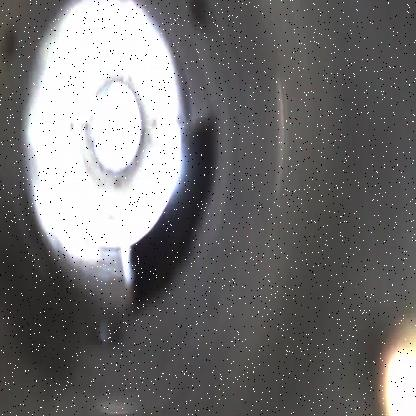Crack2: (124, 113, 224, 310)
